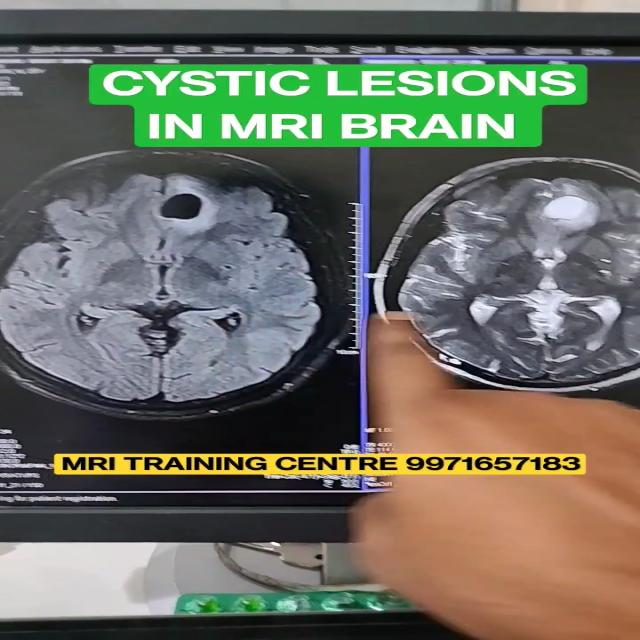tumor: (143, 187, 232, 229), (528, 197, 618, 232)
